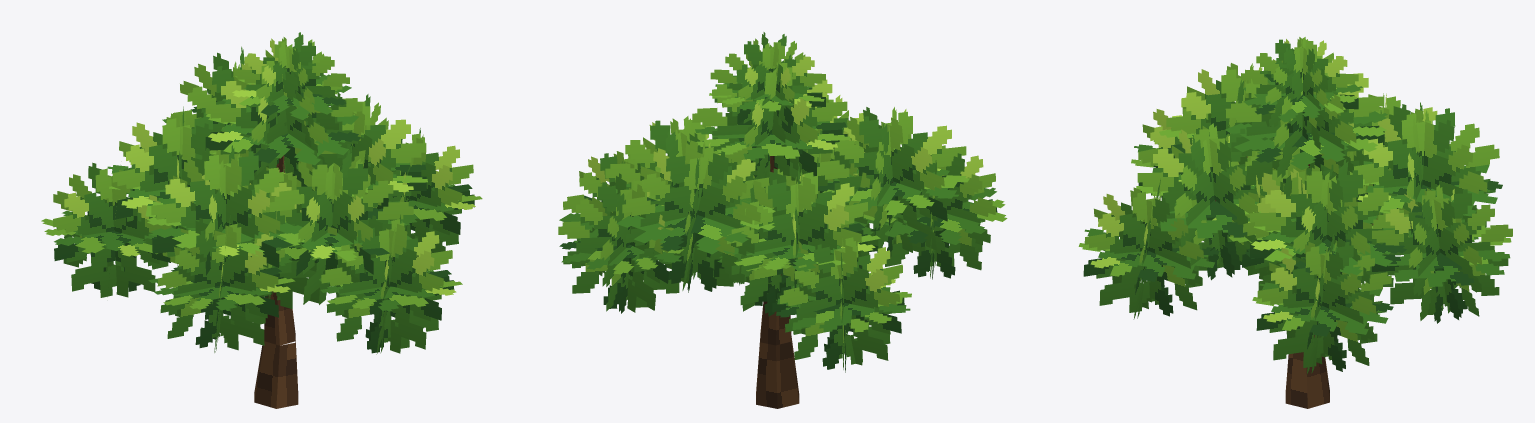
Rendered from arvore_ps1.glb.
3 views of the same model, side by side, from view 1: azimuth 30°, elevation 25°; view 2: azimuth 150°, elevation 25°; view 3: azimuth 270°, elevation 25° (orthographic). The views are drawn at different scales.
Visible parts, largest first — view 1: Arvore_PS1; view 2: Arvore_PS1; view 3: Arvore_PS1.
Part boxes in pixels (left/top/right/bottom): Arvore_PS1: left=41, top=32, right=482, bottom=408; Arvore_PS1: left=558, top=32, right=1007, bottom=408; Arvore_PS1: left=1078, top=37, right=1512, bottom=408.
Size of the model in its own units: 7.91 by 6.62 by 7.49.
Materials: 2 (2 with a texture image).
